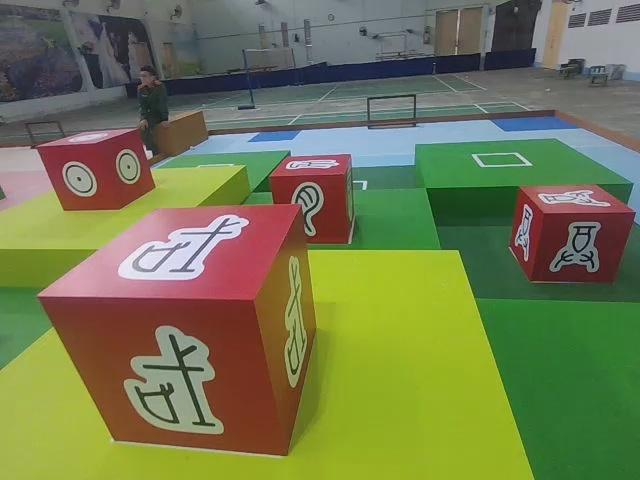R2 Fake: (265, 154, 357, 248)
R2 Real: (35, 205, 319, 460), (508, 182, 634, 286), (34, 126, 157, 212)
